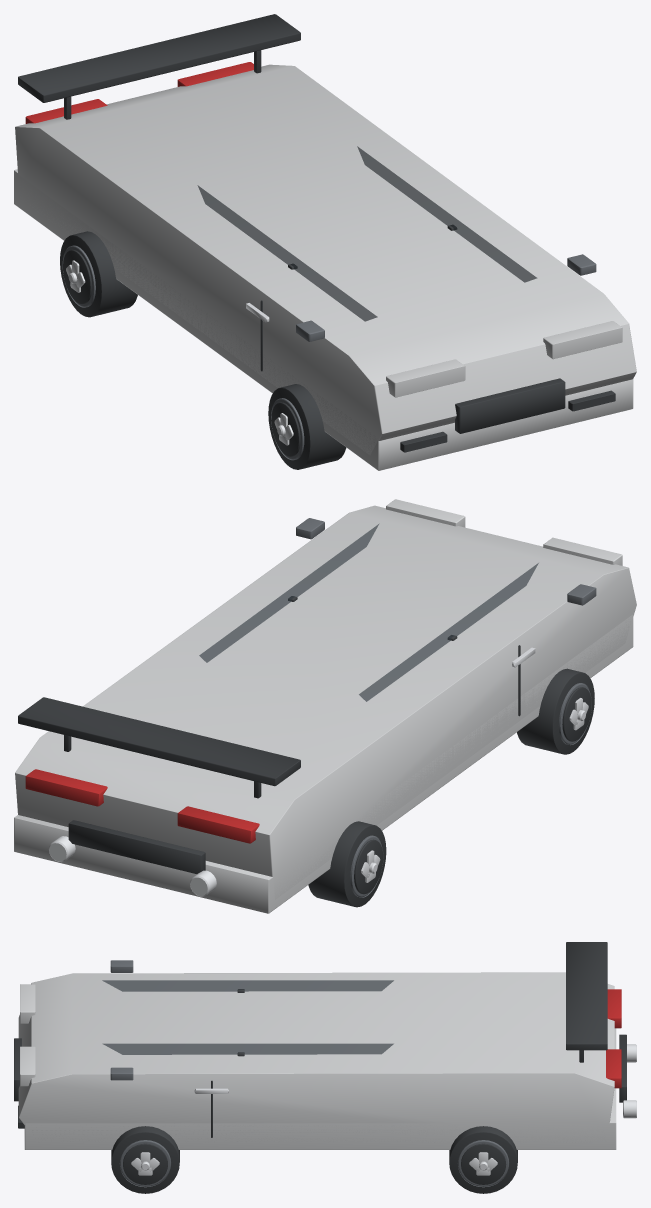
File: aether-hyper-gt.glb
The picture shows the model from 3 angles, top to bottom: view 1: azimuth 30°, elevation 25°; view 2: azimuth 150°, elevation 25°; view 3: azimuth 270°, elevation 25°; orthographic projection. The views are drawn at different scales.
Parts seen in each view (by area): view 1: paint, trim, glass, accent, tail, rim; view 2: paint, trim, glass, tail, rim, accent; view 3: paint, trim, glass, accent, rim, tail.
Boxes of the visible parts, x1,y1,x2,y2 form: paint: (14, 64, 636, 470); trim: (18, 14, 615, 469); glass: (197, 146, 536, 321); accent: (62, 245, 596, 460); tail: (25, 62, 253, 123); rim: (66, 260, 293, 445); paint: (14, 499, 636, 913); trim: (18, 596, 594, 907); glass: (199, 524, 538, 701); tail: (25, 769, 259, 843); rim: (49, 647, 588, 896); accent: (296, 518, 596, 897); paint: (18, 972, 616, 1149); trim: (14, 942, 626, 1193); glass: (102, 980, 393, 1054); accent: (110, 960, 509, 1187); rim: (131, 1044, 636, 1175); tail: (606, 989, 621, 1088).
Size of the model in its own units: 2.24 by 1.26 by 4.9.
